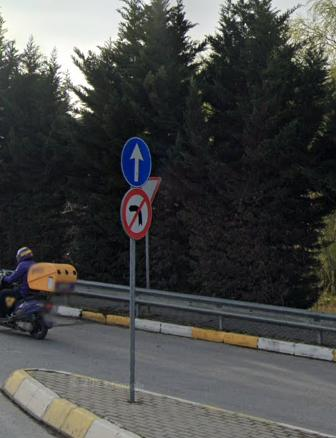forward: (120, 137, 152, 187)
leftturnsareforbidden: (122, 187, 151, 239)
